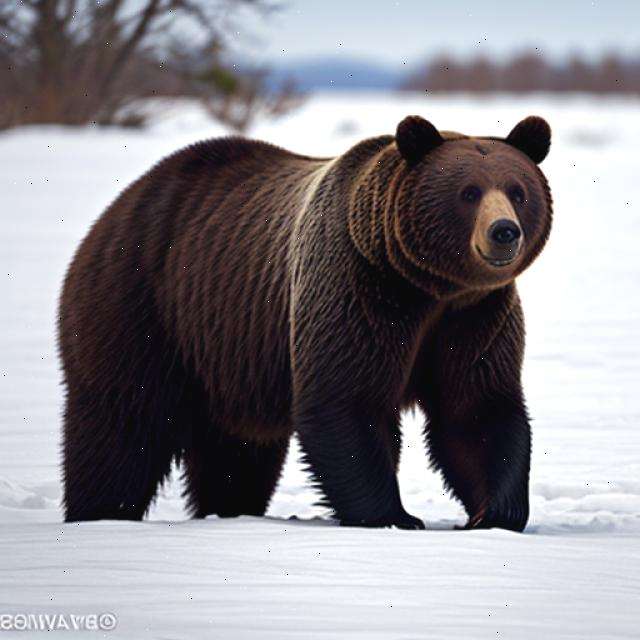bear: (364, 100, 560, 298)
